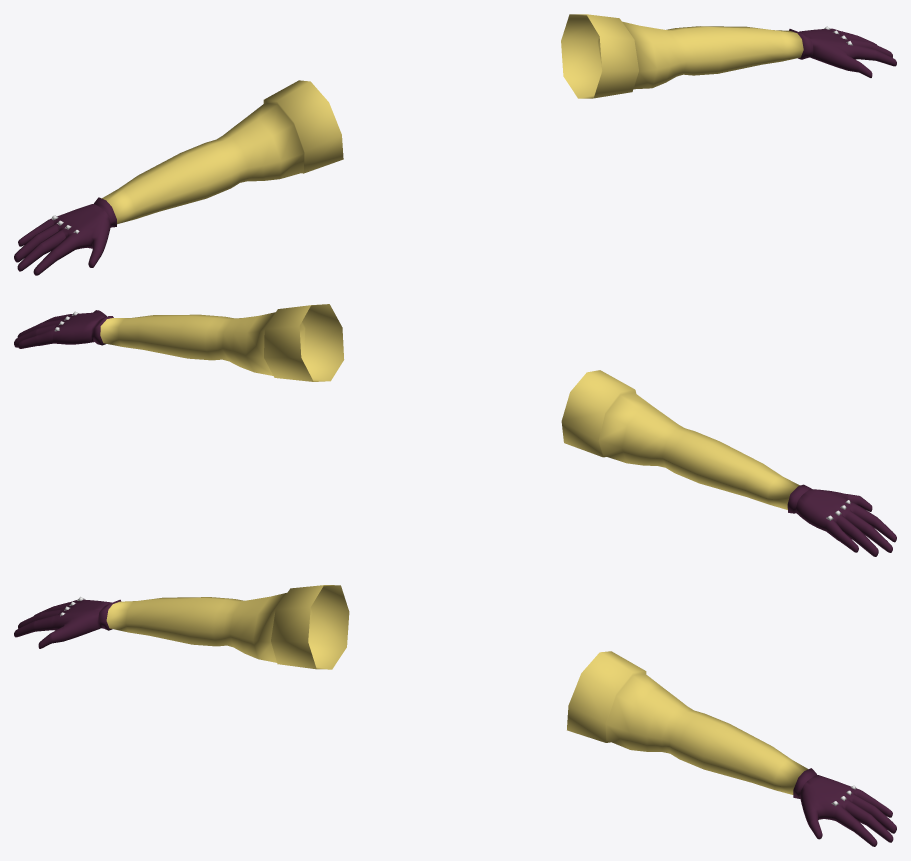
File: PlayerArms2.fbx
3 renders of one model, top to bottom at view 1: azimuth 30°, elevation 25°; view 2: azimuth 150°, elevation 25°; view 3: azimuth 330°, elevation 25°, orthographic.
Parts seen in each view (by area): view 1: Done.017; view 2: Done.017; view 3: Done.017.
Part boxes in pixels (x1,y1,x2,y2): Done.017: (14, 14, 896, 275); Done.017: (14, 304, 896, 556); Done.017: (14, 585, 896, 846).
Bounding box in the file's own units: 420 × 51.72 × 43.15.
